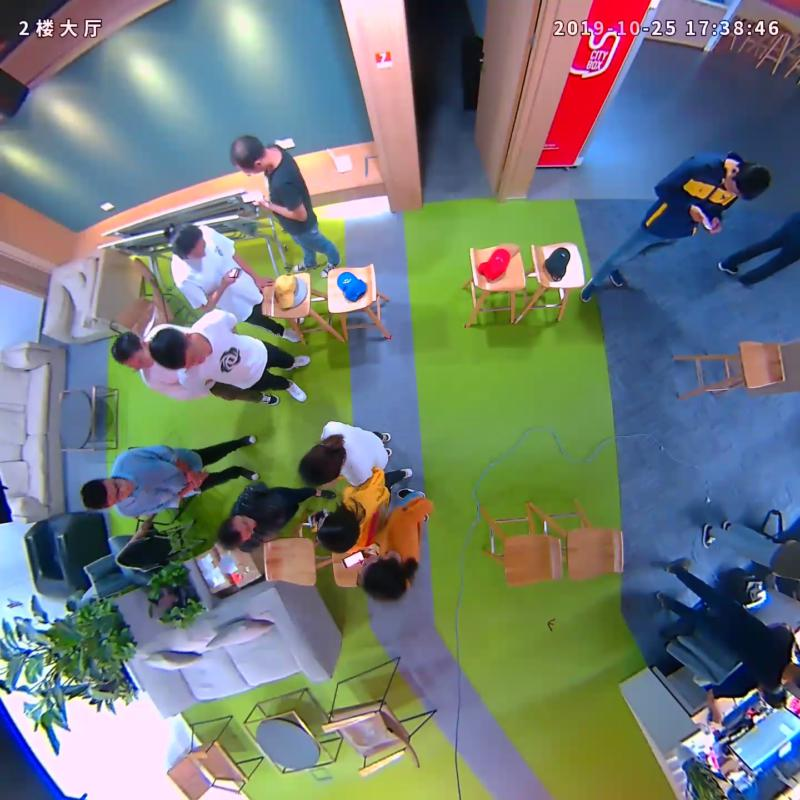head: (148, 327, 205, 371), (318, 506, 361, 554), (297, 443, 344, 486), (363, 556, 406, 602), (724, 161, 772, 199), (81, 477, 133, 510), (109, 332, 152, 371), (230, 135, 268, 175), (169, 223, 208, 261), (216, 513, 256, 548)
